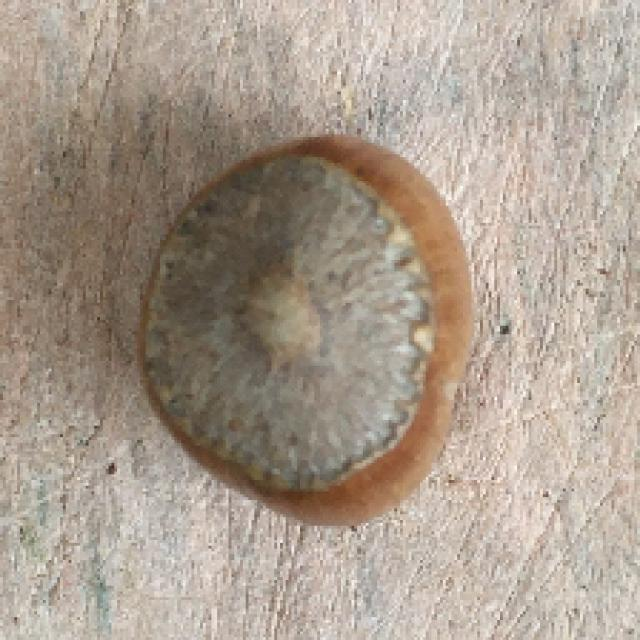damagedHazelnut: (122, 131, 485, 532)
